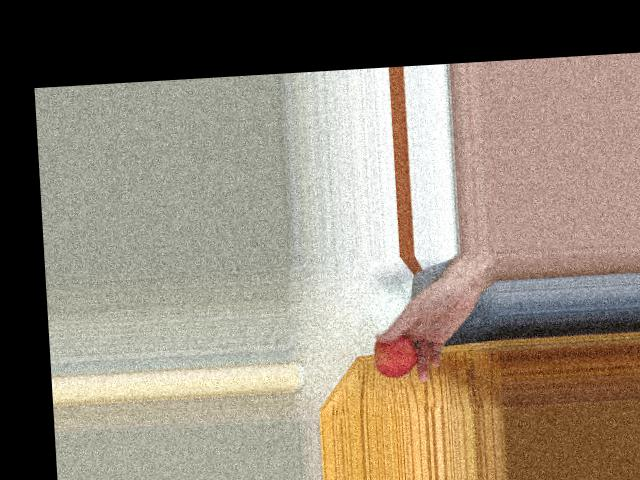apple: (368, 333, 421, 380)
